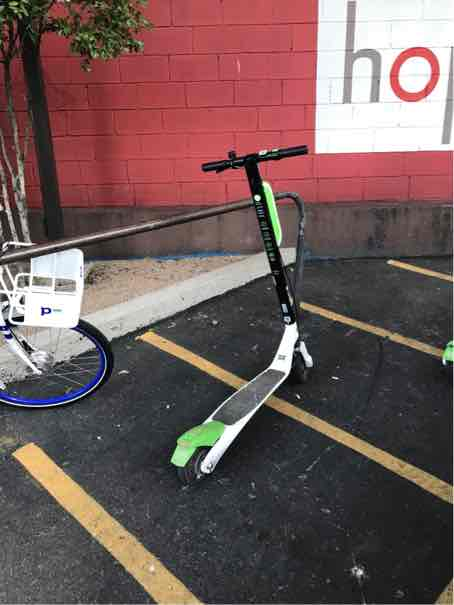scooter: (168, 145, 331, 484)
